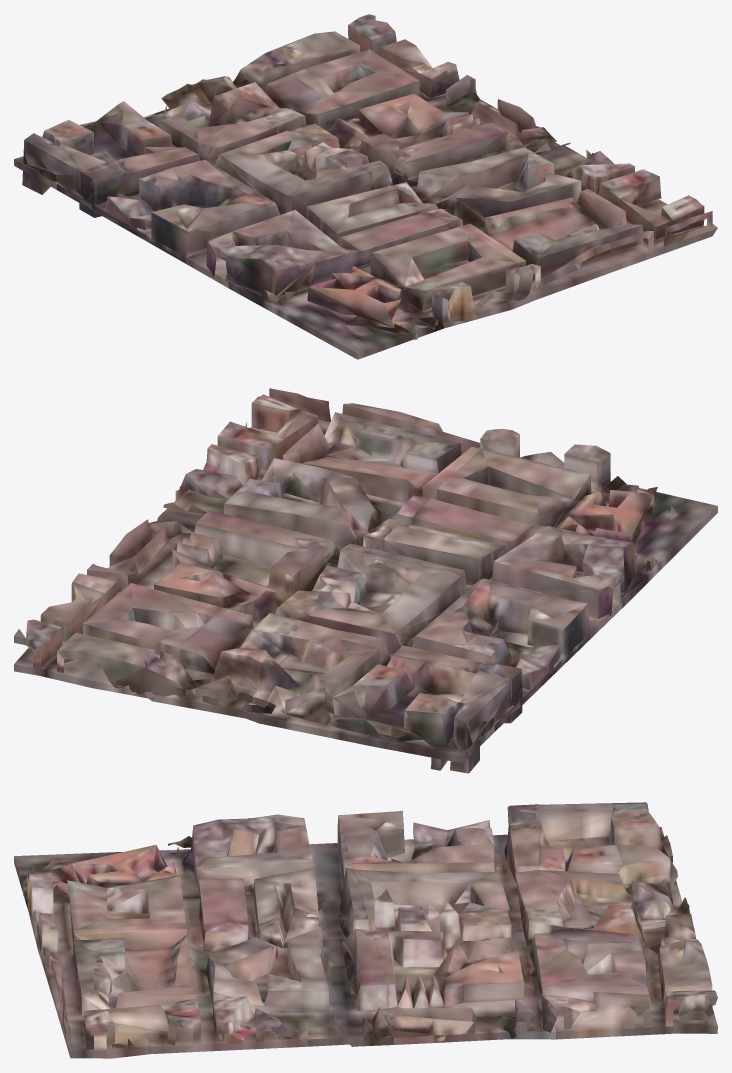
3 views of the same model, one above another, from view 1: azimuth 30°, elevation 25°; view 2: azimuth 150°, elevation 25°; view 3: azimuth 270°, elevation 25° (orthographic). The views are drawn at different scales.
Parts seen in each view (by area): view 1: Mesh_0; view 2: Mesh_0; view 3: Mesh_0.
Boxes of the visible parts, <box> form: Mesh_0: <box>14,14,717,359</box>; Mesh_0: <box>14,388,717,773</box>; Mesh_0: <box>14,802,717,1058</box>.
Size of the model in its own units: 540 by 69.21 by 659.
Materials: 2 (2 with a texture image).
